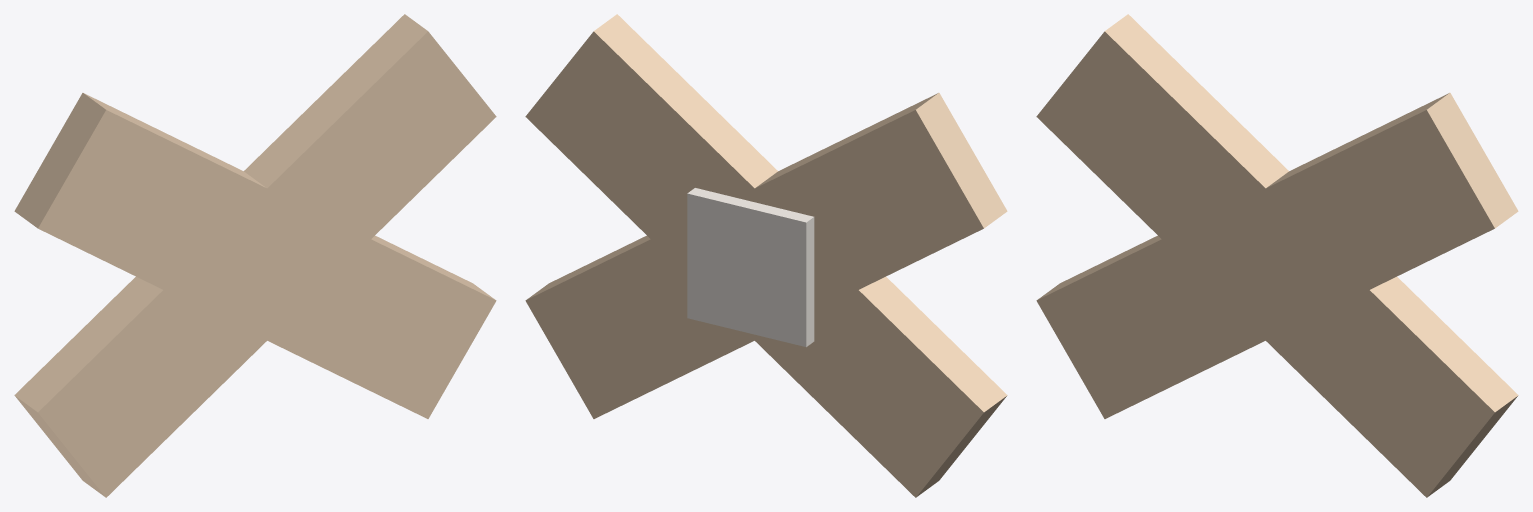
Rendered from face_plaster.glb.
The picture shows the model from 3 angles, left to right: view 1: azimuth 30°, elevation 25°; view 2: azimuth 150°, elevation 25°; view 3: azimuth 330°, elevation 25°; orthographic projection.
Visible parts, largest first — view 1: Head; view 2: Head; view 3: Head.
Part boxes in pixels (x1=…): Head: x1=14, y1=14, x2=496, y2=497; Head: x1=525, y1=14, x2=1007, y2=497; Head: x1=1036, y1=14, x2=1518, y2=497.
Size of the model in its own units: 0.1348 by 0.109 by 0.016.
